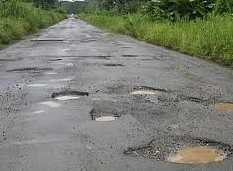pothole: (140, 128, 223, 160), (201, 78, 232, 120), (124, 77, 166, 98), (84, 109, 129, 124), (51, 87, 92, 103), (44, 34, 106, 42)
